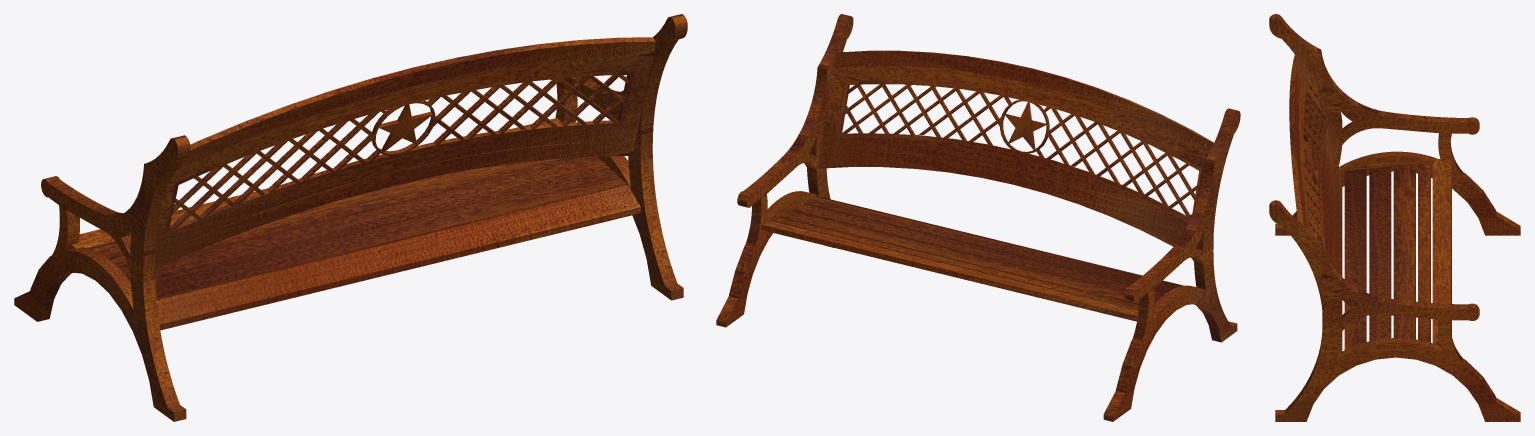
The picture shows the model from 3 angles, left to right: view 1: azimuth 30°, elevation 25°; view 2: azimuth 150°, elevation 25°; view 3: azimuth 270°, elevation 25°; orthographic projection. The views are drawn at different scales.
Visible parts, largest first — view 1: mesh5_mesh5-geometry, mesh168_mesh168-geometry, mesh185_mesh185-geometry, mesh14_mesh14-geometry, mesh171_mesh171-geometry, mesh6_mesh6-geometry, mesh2_mesh2-geometry, mesh173_mesh173-geometry, mesh3_mesh3-geometry, mesh177_mesh177-geometry, mesh9_mesh9-geometry, mesh183_mesh183-geometry (+3 smaller); view 2: mesh168_mesh168-geometry, mesh185_mesh185-geometry, mesh14_mesh14-geometry, mesh177_mesh177-geometry, mesh171_mesh171-geometry, mesh173_mesh173-geometry, mesh4_mesh4-geometry, mesh6_mesh6-geometry, mesh9_mesh9-geometry, mesh3_mesh3-geometry, mesh2_mesh2-geometry, mesh1_mesh1-geometry (+4 smaller); view 3: mesh177_mesh177-geometry, mesh185_mesh185-geometry, mesh3_mesh3-geometry, mesh2_mesh2-geometry, mesh6_mesh6-geometry, mesh4_mesh4-geometry, mesh1_mesh1-geometry, mesh168_mesh168-geometry, mesh14_mesh14-geometry, mesh171_mesh171-geometry, mesh175_mesh175-geometry, mesh5_mesh5-geometry (+3 smaller).
Part boxes in pixels (x1,y1,x2,y2): mesh5_mesh5-geometry: (156,185,640,330); mesh168_mesh168-geometry: (155,56,652,255); mesh185_mesh185-geometry: (14,164,186,421); mesh14_mesh14-geometry: (168,75,628,232); mesh171_mesh171-geometry: (175,37,655,170); mesh6_mesh6-geometry: (155,170,626,299); mesh2_mesh2-geometry: (122,156,610,282); mesh173_mesh173-geometry: (155,141,635,268); mesh3_mesh3-geometry: (107,156,591,271); mesh177_mesh177-geometry: (551,77,683,300); mesh9_mesh9-geometry: (163,71,634,238); mesh183_mesh183-geometry: (143,135,190,256); mesh168_mesh168-geometry: (820,66,1207,235); mesh185_mesh185-geometry: (1103,162,1237,421); mesh14_mesh14-geometry: (841,84,1196,219); mesh177_mesh177-geometry: (716,67,833,327); mesh171_mesh171-geometry: (833,50,1214,155); mesh173_mesh173-geometry: (817,152,1181,246); mesh4_mesh4-geometry: (761,221,1138,321); mesh6_mesh6-geometry: (804,197,1180,292); mesh9_mesh9-geometry: (836,80,1201,222); mesh3_mesh3-geometry: (779,210,1157,304); mesh2_mesh2-geometry: (791,203,1166,299); mesh1_mesh1-geometry: (772,217,1138,310); mesh177_mesh177-geometry: (1275,238,1520,421); mesh185_mesh185-geometry: (1275,51,1520,235); mesh3_mesh3-geometry: (1393,164,1415,339); mesh2_mesh2-geometry: (1369,166,1391,341); mesh6_mesh6-geometry: (1344,169,1366,349); mesh4_mesh4-geometry: (1432,159,1451,345); mesh1_mesh1-geometry: (1418,163,1430,342); mesh168_mesh168-geometry: (1299,56,1334,260); mesh14_mesh14-geometry: (1303,77,1326,235); mesh171_mesh171-geometry: (1289,43,1307,227); mesh175_mesh175-geometry: (1269,200,1322,309); mesh5_mesh5-geometry: (1322,171,1342,352).
Bounding box in the file's own units: 0.7804 × 0.4155 × 0.4343.
